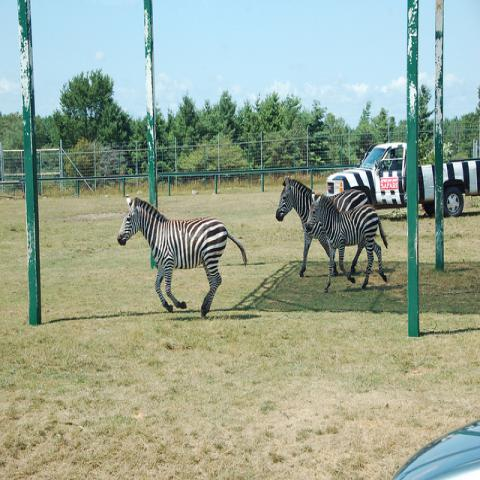car: (395, 417, 479, 473)
truck: (326, 137, 480, 221)
